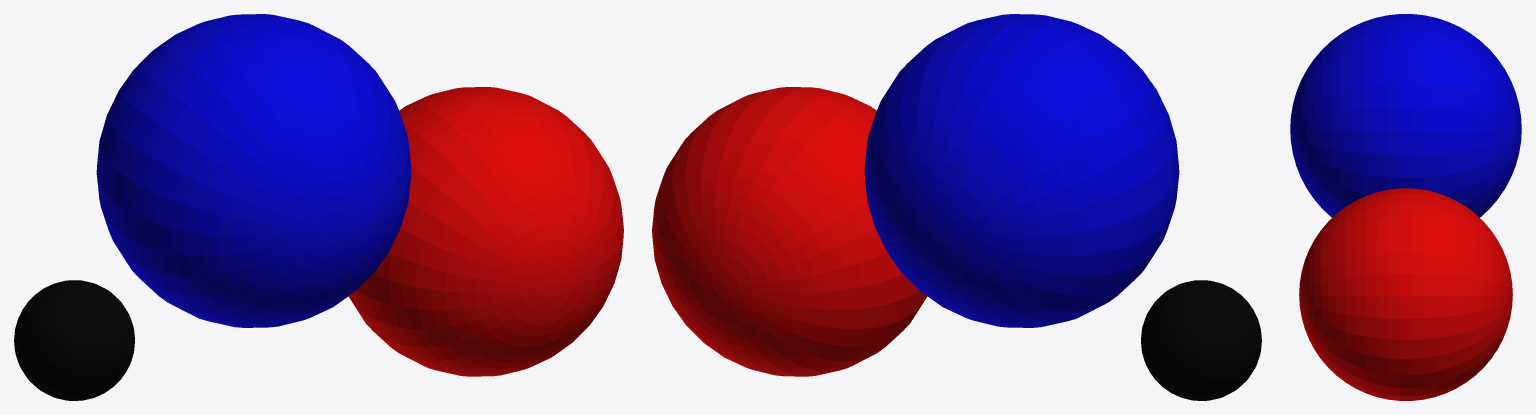
The model's file is Nitric Oxide.glb.
The picture shows the model from 3 angles, left to right: view 1: azimuth 30°, elevation 25°; view 2: azimuth 150°, elevation 25°; view 3: azimuth 270°, elevation 25°; orthographic projection. The views are drawn at different scales.
Parts seen in each view (by area): view 1: world; view 2: world; view 3: world.
Boxes of the visible parts, x1,y1,x2,y2 form: world: (14,14,623,400); world: (652,14,1261,400); world: (1290,14,1521,400).
Size of the model in its own units: 2.77 by 1.77 by 1.3.
